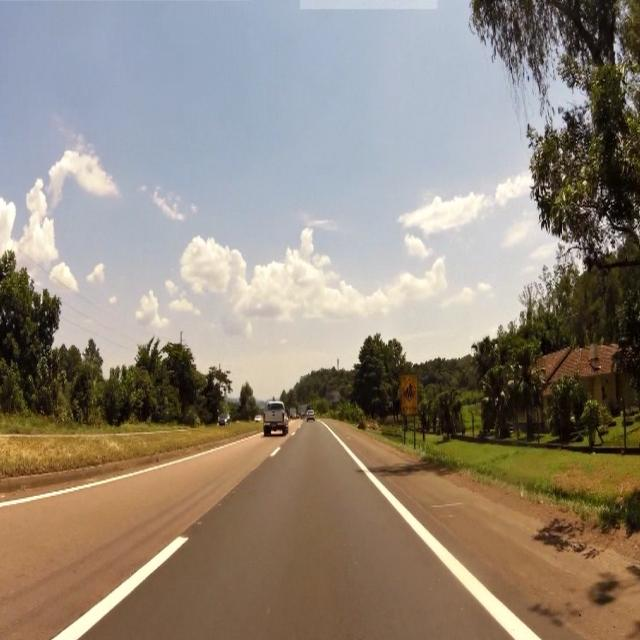A-33a: (402, 376, 419, 416)
